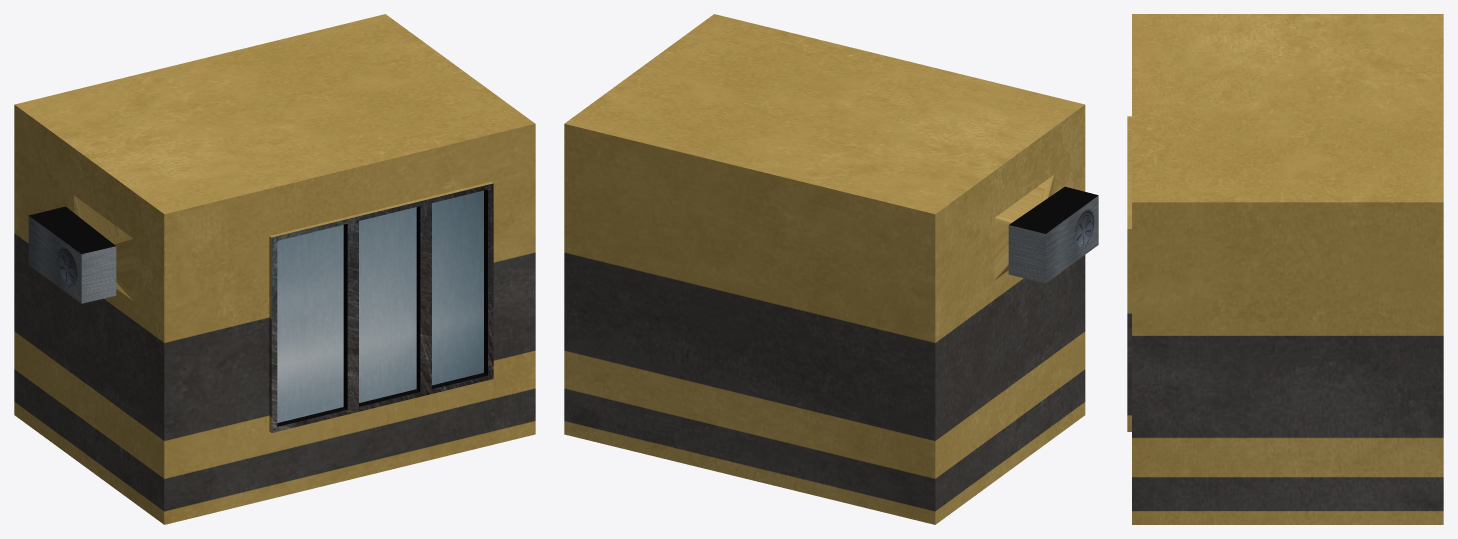
Rendered from buildingCima2.obj.
3 renders of one model, left to right at view 1: azimuth 30°, elevation 25°; view 2: azimuth 150°, elevation 25°; view 3: azimuth 270°, elevation 25°, orthographic. The views are drawn at different scales.
Parts seen in each view (by area): view 1: Cube; view 2: Cube; view 3: Cube.
Boxes of the visible parts, <box> form: Cube: <box>14,14,535,524</box>; Cube: <box>564,14,1098,524</box>; Cube: <box>1127,14,1443,524</box>.
Size of the model in its own units: 11.3 by 8 by 7.1.
